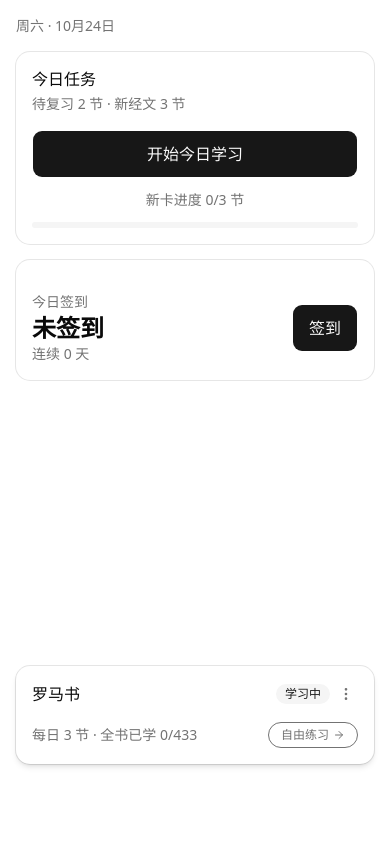
Test case: PlanClient 签到反馈 › 签到失败时在签到卡内显示错误，而不是静默无反应
Click the button "签到": (325, 328) [292,304,358,352]
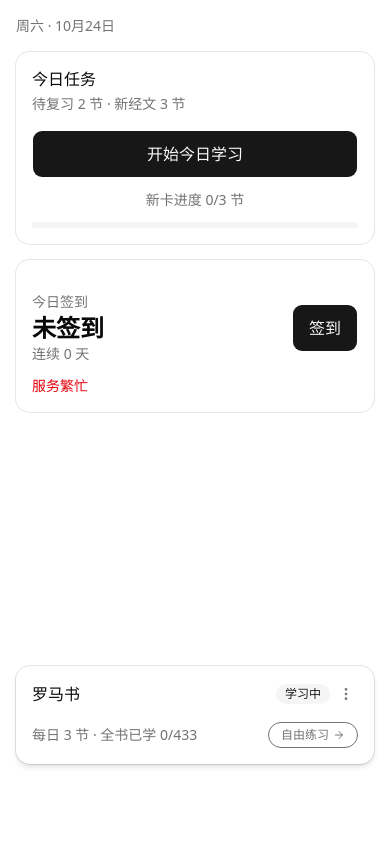
Expected: the text "未签到" is shown, [32,312,104,344]
Expected: the message reads "服务繁忙", [32,376,88,395]
